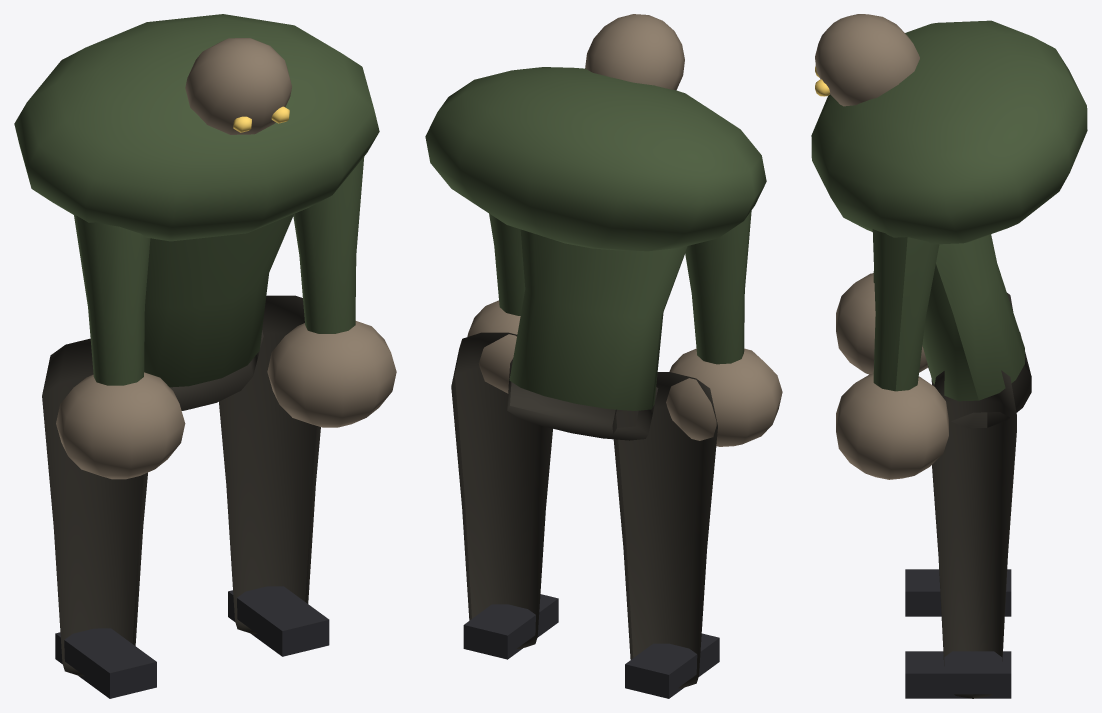
File: husk_brute.glb
3 renders of one model, left to right at view 1: azimuth 30°, elevation 25°; view 2: azimuth 150°, elevation 25°; view 3: azimuth 270°, elevation 25°, orthographic. The views are drawn at different scales.
Visible parts, largest first — view 1: husk_brute; view 2: husk_brute; view 3: husk_brute.
Part boxes in pixels (x1,y1,x2,y2): husk_brute: [14, 14, 396, 698]; husk_brute: [425, 14, 782, 698]; husk_brute: [811, 14, 1087, 698].
Size of what is drawn, in the model's own units: 1.29 by 2.34 by 0.9348.
